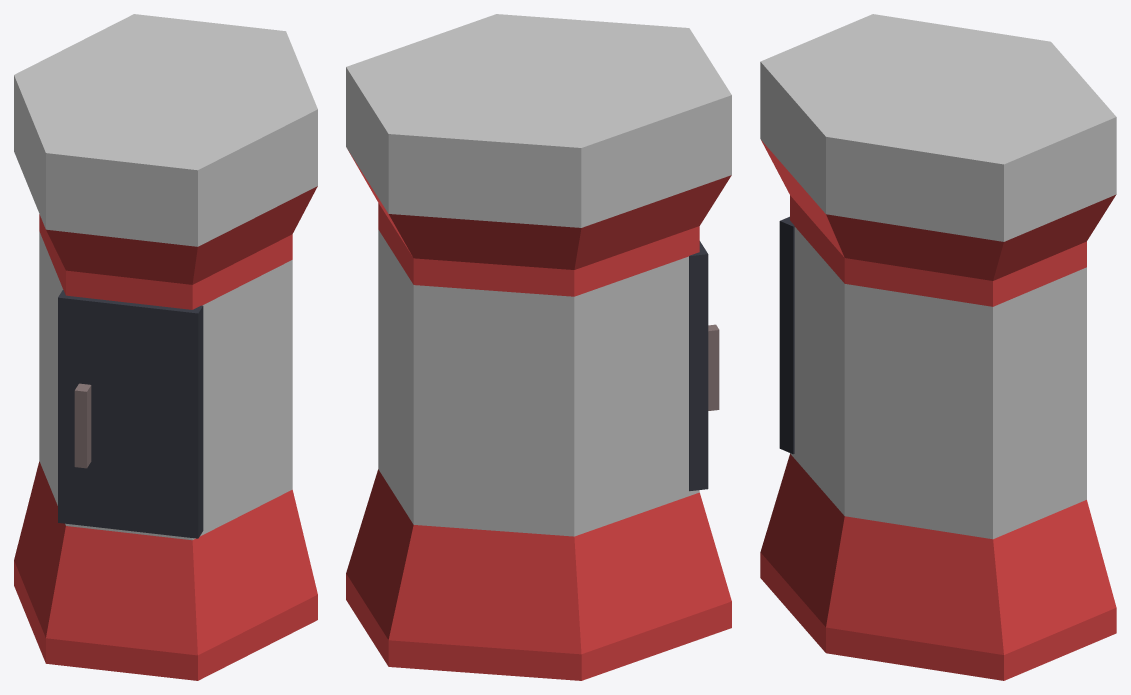
File: spaceship_trashcan.glb
The picture shows the model from 3 angles, left to right: view 1: azimuth 30°, elevation 25°; view 2: azimuth 150°, elevation 25°; view 3: azimuth 270°, elevation 25°; orthographic projection. The views are drawn at different scales.
Parts seen in each view (by area): view 1: hexagon_overhang, hexagon_base, wall, block_tube; view 2: hexagon_overhang, hexagon_base, wall, block_tube; view 3: hexagon_overhang, hexagon_base, wall.
Boxes of the visible parts, box(x1,y1,x2,y2) form: hexagon_overhang: box(14, 14, 317, 406); hexagon_base: box(14, 334, 317, 680); wall: box(58, 290, 203, 538); block_tube: box(74, 383, 91, 468); hexagon_overhang: box(346, 14, 731, 403); hexagon_base: box(346, 336, 731, 680); wall: box(689, 241, 708, 491); block_tube: box(708, 324, 719, 410); hexagon_overhang: box(760, 14, 1116, 409); hexagon_base: box(760, 330, 1116, 680); wall: box(779, 216, 794, 454).
Size of the model in its own units: 0.9999 by 1.6 by 0.9999.
